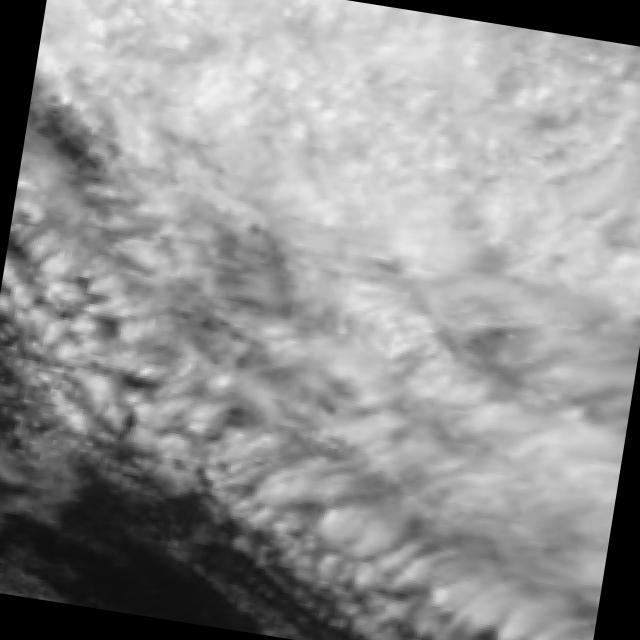CB: (40, 0, 550, 157)
